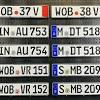0: (89, 65, 95, 75), (89, 85, 95, 94)
1: (89, 46, 95, 55), (89, 27, 94, 36), (33, 66, 38, 75), (43, 66, 47, 75), (33, 85, 37, 94)
2: (84, 66, 90, 75), (84, 85, 89, 94), (42, 85, 47, 94)
3: (19, 7, 25, 16), (79, 7, 85, 16), (42, 27, 47, 36)
4: (42, 47, 47, 55)
5: (83, 27, 89, 36), (35, 46, 41, 55), (36, 27, 41, 36), (84, 46, 89, 55), (38, 66, 43, 75), (38, 85, 43, 94)
7: (26, 7, 31, 16), (29, 27, 34, 36), (30, 46, 35, 55)
8: (85, 7, 91, 16), (95, 26, 100, 36), (95, 46, 100, 55)
9: (96, 66, 100, 75), (96, 85, 100, 94)
A: (16, 27, 21, 36), (16, 47, 21, 55)
B: (68, 7, 73, 16), (77, 66, 82, 75), (9, 66, 14, 75), (77, 85, 82, 94), (9, 85, 14, 94), (7, 7, 12, 15)
D: (69, 27, 75, 36), (70, 47, 75, 55)
I: (0, 47, 4, 56), (0, 27, 3, 37)
M: (57, 27, 63, 37), (58, 47, 64, 56), (71, 85, 77, 94), (71, 66, 76, 75)
N: (3, 46, 10, 55), (4, 27, 10, 36)
O: (61, 7, 67, 16), (1, 6, 6, 15), (4, 66, 9, 75), (3, 85, 8, 94)
R: (26, 84, 31, 95), (26, 66, 31, 75)
S: (58, 66, 64, 75), (59, 85, 65, 94)
T: (76, 27, 82, 36), (76, 46, 82, 55)
U: (22, 46, 28, 56), (22, 27, 28, 36)
V: (33, 7, 39, 16), (93, 7, 99, 16), (20, 85, 25, 94), (21, 66, 25, 75)
W: (55, 7, 61, 16), (0, 66, 4, 75), (0, 85, 4, 94)
